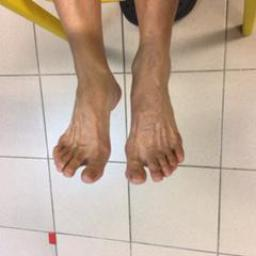Dorsal View -Both Feet-: (38, 34, 196, 188)
